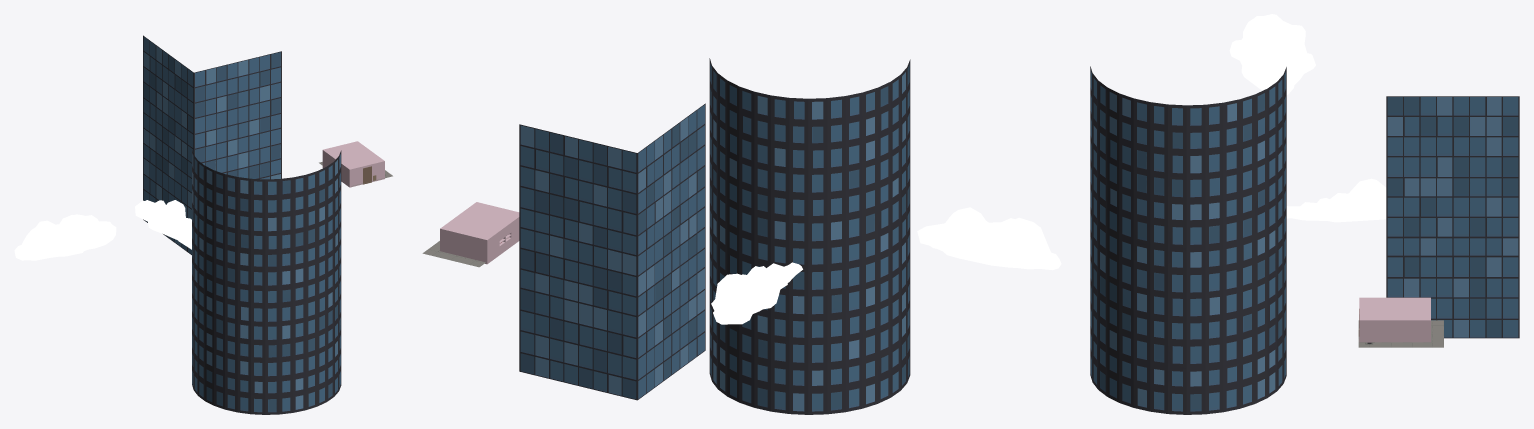
The model's file is HealthSceneObject.glb.
3 views of the same model, side by side, from view 1: azimuth 30°, elevation 25°; view 2: azimuth 150°, elevation 25°; view 3: azimuth 270°, elevation 25° (orthographic). The views are drawn at different scales.
Visible parts, largest first — view 1: SM_Bld_OfficeRound_03, SM_Prop_Poster_Frame_01, SM_Env_Cloud_03, room (2), SM_Env_Cloud_02; view 2: SM_Bld_OfficeRound_03, SM_Prop_Poster_Frame_01, SM_Env_Cloud_03, room (2), SM_Env_Cloud_02; view 3: SM_Bld_OfficeRound_03, SM_Prop_Poster_Frame_01, SM_Env_Cloud_03, room (2), SM_Env_Cloud_02.
Boxes of the visible parts, bbox=[...] form: SM_Bld_OfficeRound_03: bbox=[192, 150, 341, 414]; SM_Prop_Poster_Frame_01: bbox=[143, 35, 392, 254]; SM_Env_Cloud_03: bbox=[14, 214, 116, 260]; room (2): bbox=[322, 141, 384, 187]; SM_Env_Cloud_02: bbox=[135, 200, 191, 249]; SM_Bld_OfficeRound_03: bbox=[709, 58, 910, 414]; SM_Prop_Poster_Frame_01: bbox=[422, 103, 705, 400]; SM_Env_Cloud_03: bbox=[917, 207, 1061, 270]; room (2): bbox=[440, 202, 519, 264]; SM_Env_Cloud_02: bbox=[711, 262, 802, 324]; SM_Bld_OfficeRound_03: bbox=[1090, 66, 1286, 414]; SM_Prop_Poster_Frame_01: bbox=[1358, 96, 1519, 347]; SM_Env_Cloud_03: bbox=[1229, 14, 1315, 94]; room (2): bbox=[1359, 297, 1430, 342]; SM_Env_Cloud_02: bbox=[1286, 178, 1386, 222].
Bounding box in the file's own units: 69.91 × 41.54 × 48.23.
Materials: 4 (2 with a texture image).
